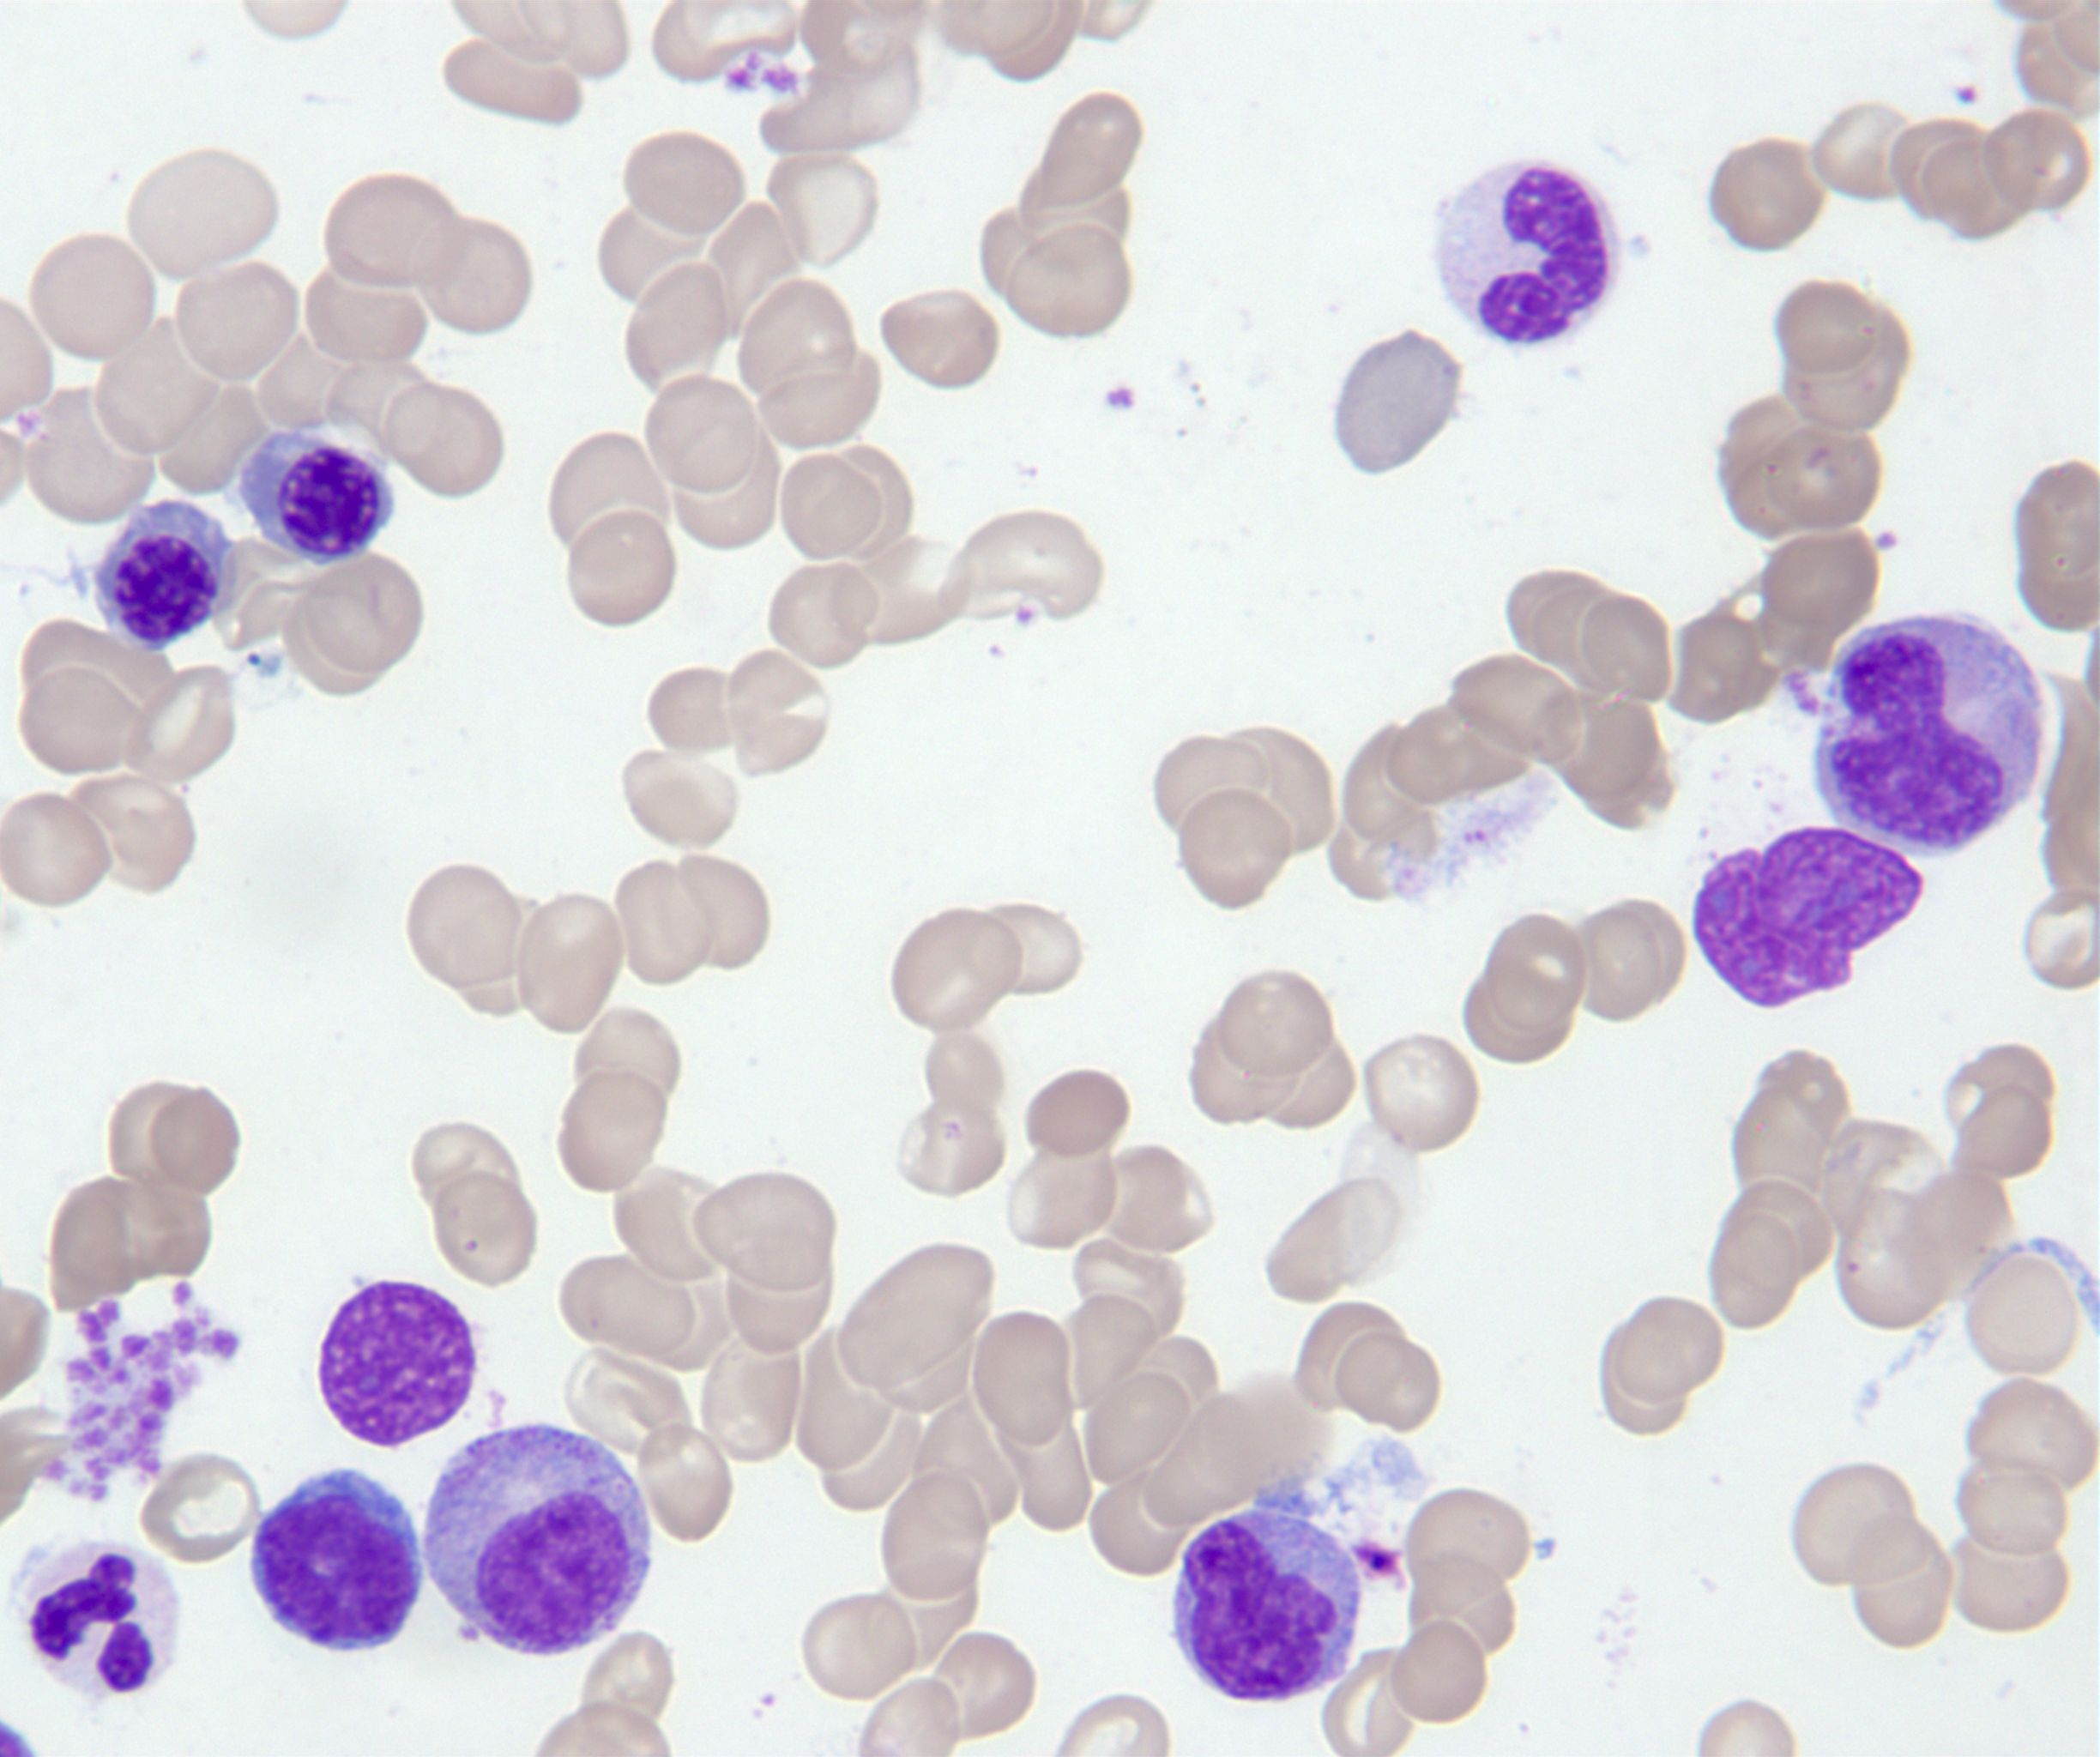1: (253, 1469, 420, 1652)
24: (92, 501, 237, 656), (239, 433, 392, 567)
3: (1817, 616, 2044, 855), (426, 1427, 647, 1656)
42: (1174, 1509, 1360, 1703)
6: (1437, 161, 1619, 345), (19, 1544, 180, 1699)
x: (1695, 829, 1922, 1007), (321, 1284, 474, 1446)
